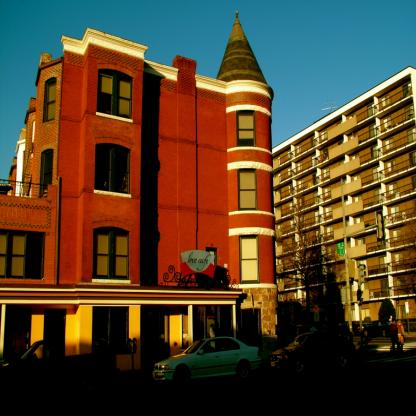Car: (156, 333, 264, 391)
